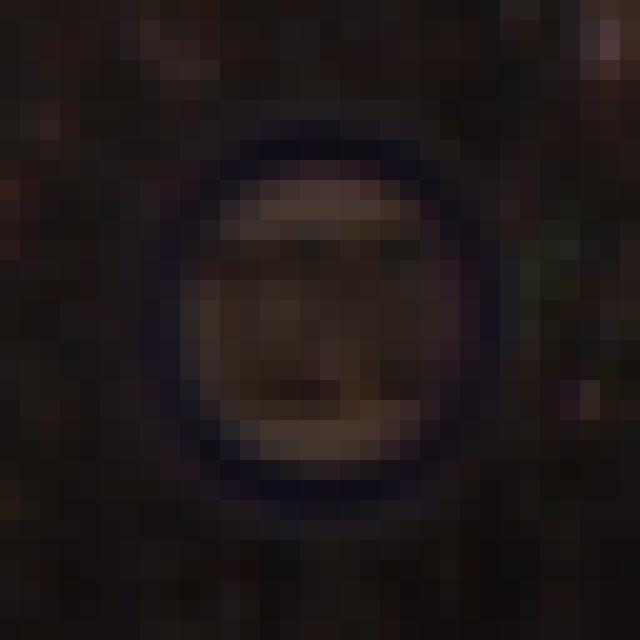SPEED LIMIT 120: (156, 154, 494, 506)
